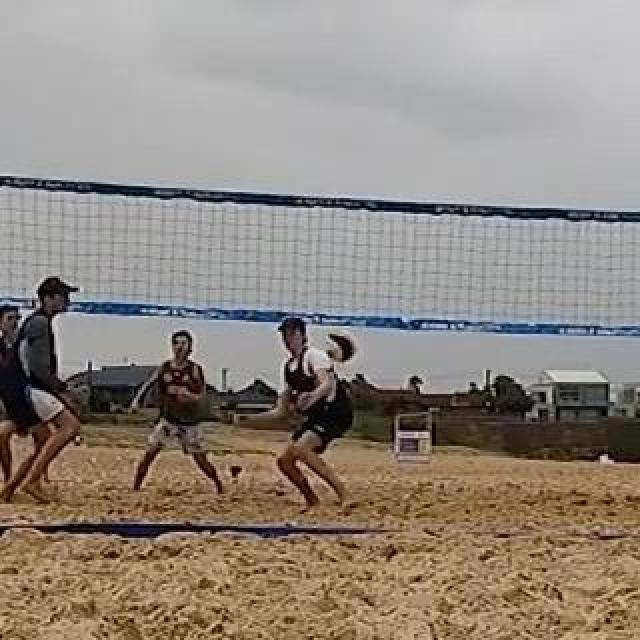volleyball: (327, 336, 353, 364)
